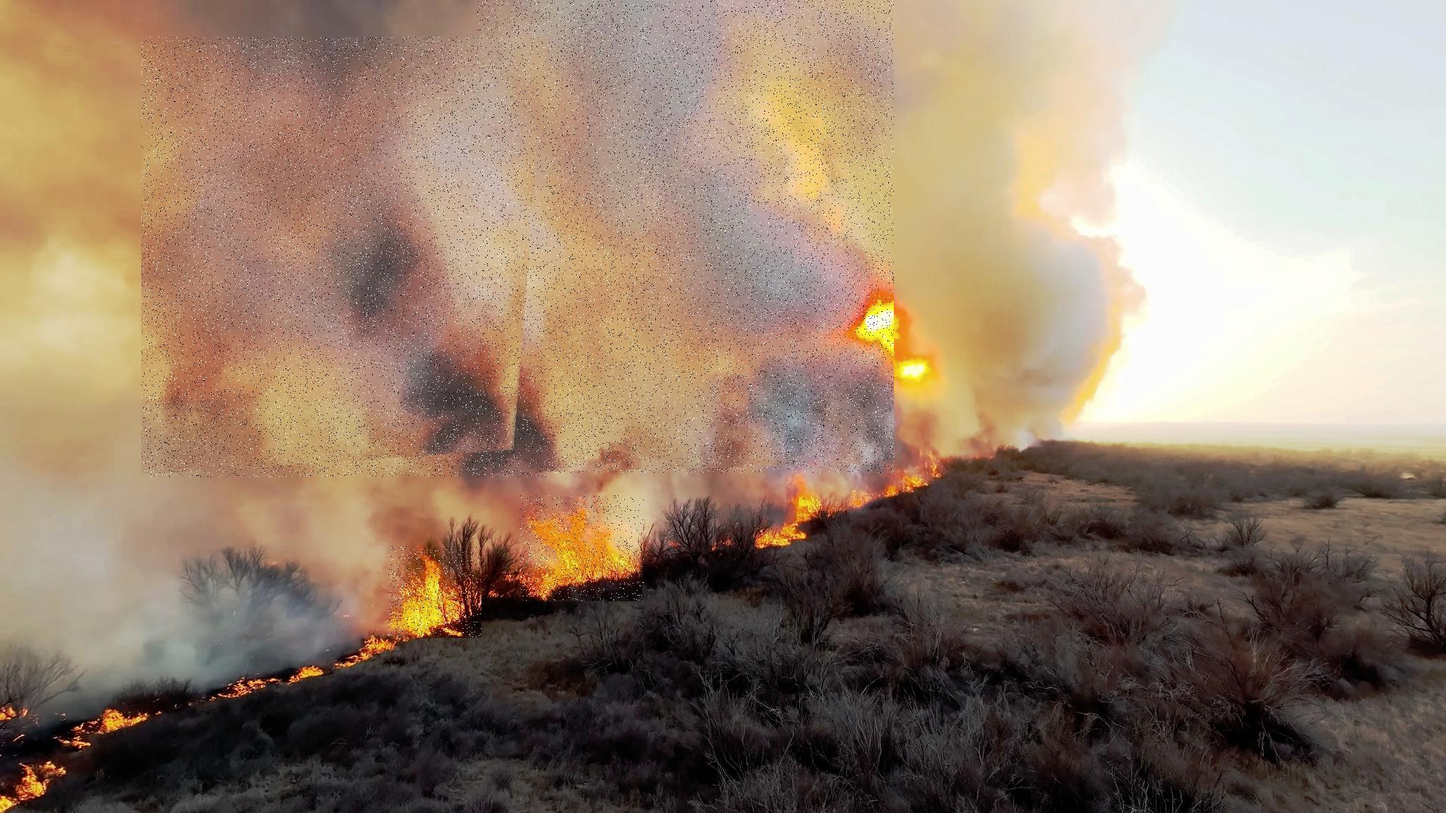fire: (520, 495, 644, 601), (388, 546, 481, 638)
smoke: (477, 0, 894, 473), (141, 37, 549, 477)
